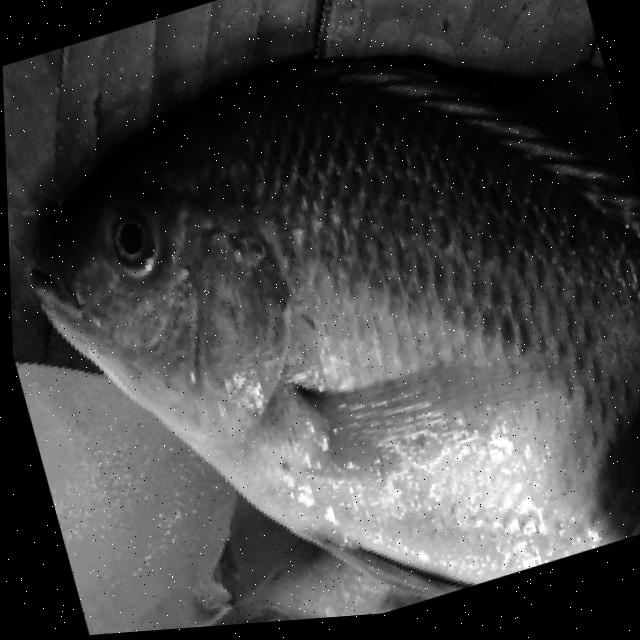Fresh: (2, 30, 640, 614)
